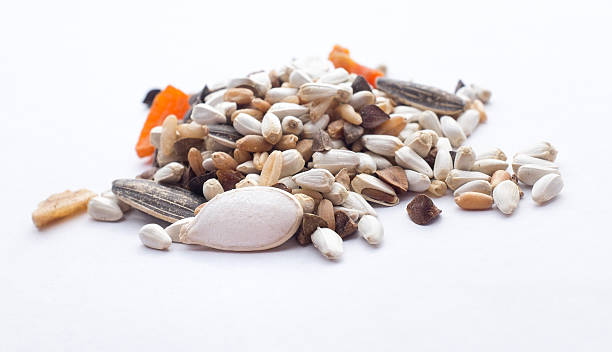seed: (26, 24, 570, 275)
